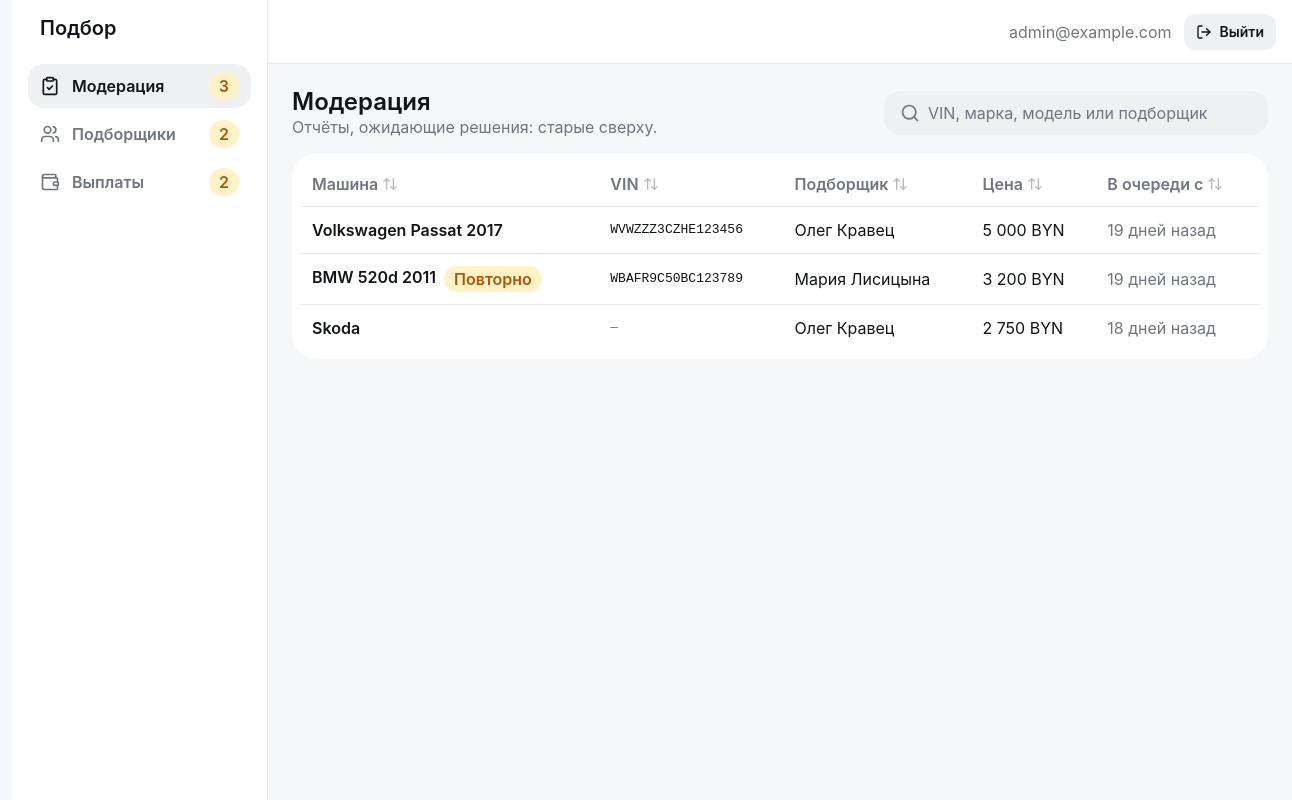
Test: шапка и выход › «Выйти» очищает сессию и кэш запросов и ведёт на /login
Expected: the link "Модерация 3" is shown, [28, 64, 251, 108]
Click the button "Выйти".
click(1230, 32)  # box [1184, 14, 1276, 50]
(page scrolled)
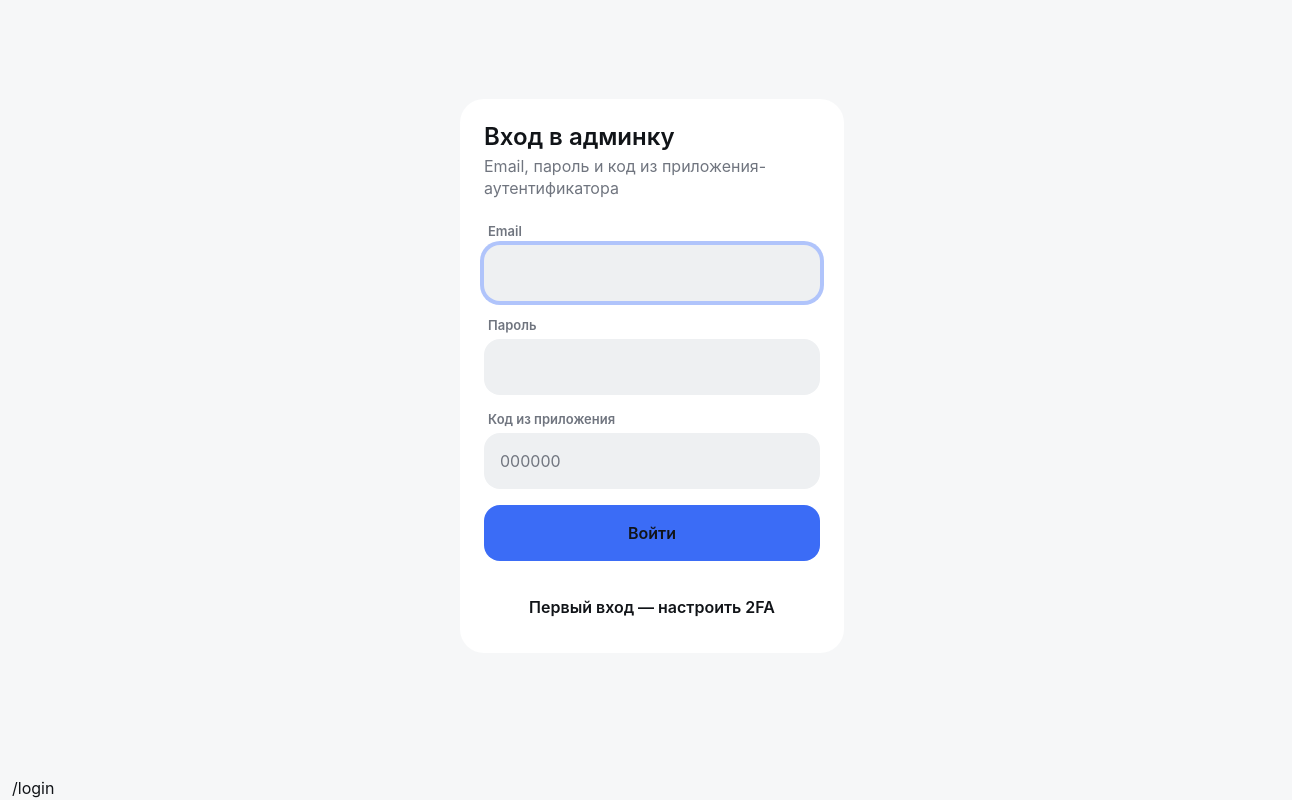
Expected: the text with test id "location" reads "/login", [12, 778, 54, 798]
